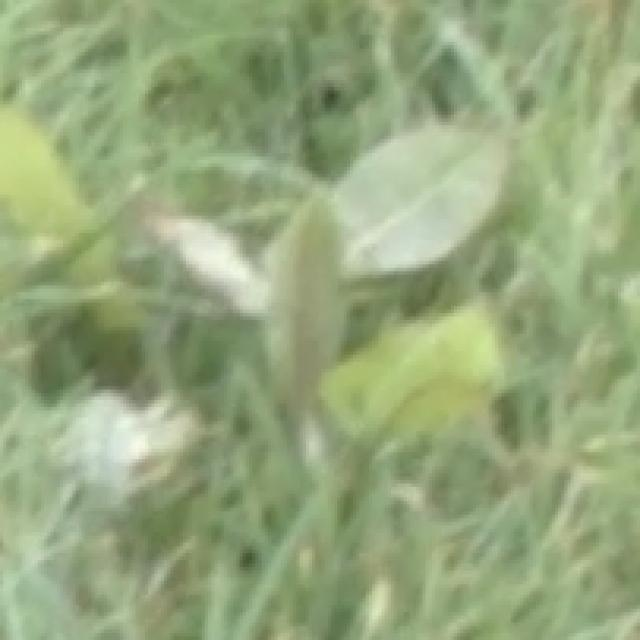organic waste: (0, 63, 592, 515)
